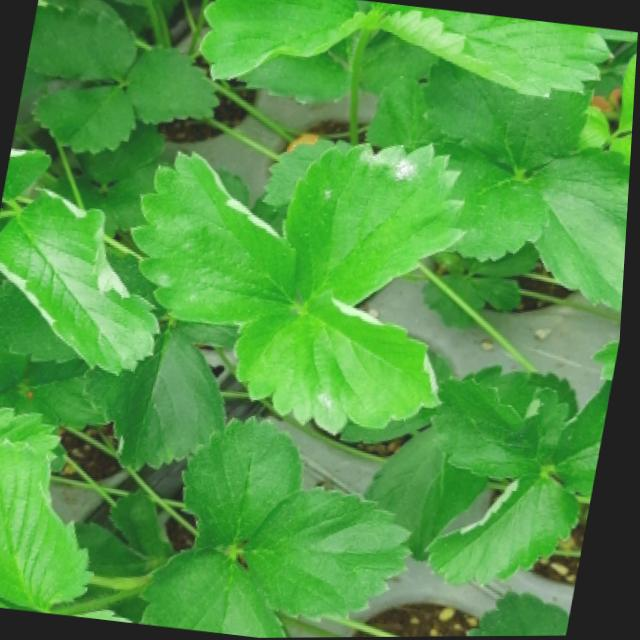Powdery Mildew Leaf: (0, 188, 163, 378), (283, 140, 467, 306), (132, 149, 301, 328), (236, 292, 444, 437), (431, 476, 586, 589), (3, 147, 51, 201)
